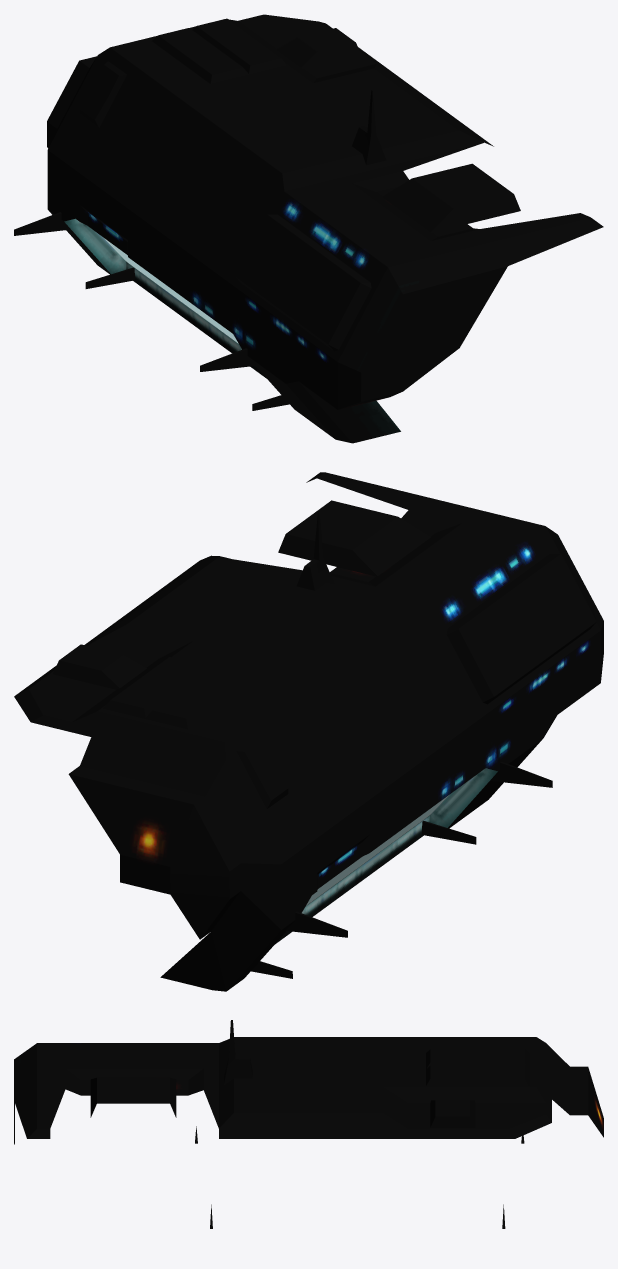
File: hangar_hgn_carrier_02_enhanced_01_right.glb
3 renders of one model, top to bottom at view 1: azimuth 30°, elevation 25°; view 2: azimuth 150°, elevation 25°; view 3: azimuth 270°, elevation 25°, orthographic. The views are drawn at different scales.
Parts seen in each view (by area): view 1: hgn_flagship_carrier_t1_hangar_m_right_LOD0; view 2: hgn_flagship_carrier_t1_hangar_m_right_LOD0; view 3: hgn_flagship_carrier_t1_hangar_m_right_LOD0.
Part boxes in pixels (x1,y1,x2,y2): hgn_flagship_carrier_t1_hangar_m_right_LOD0: (14, 14, 603, 443); hgn_flagship_carrier_t1_hangar_m_right_LOD0: (14, 472, 603, 991); hgn_flagship_carrier_t1_hangar_m_right_LOD0: (14, 1020, 603, 1228).
Bounding box in the file's own units: 1.47 × 1.3 × 2.79.
1 material, 1 textured.
